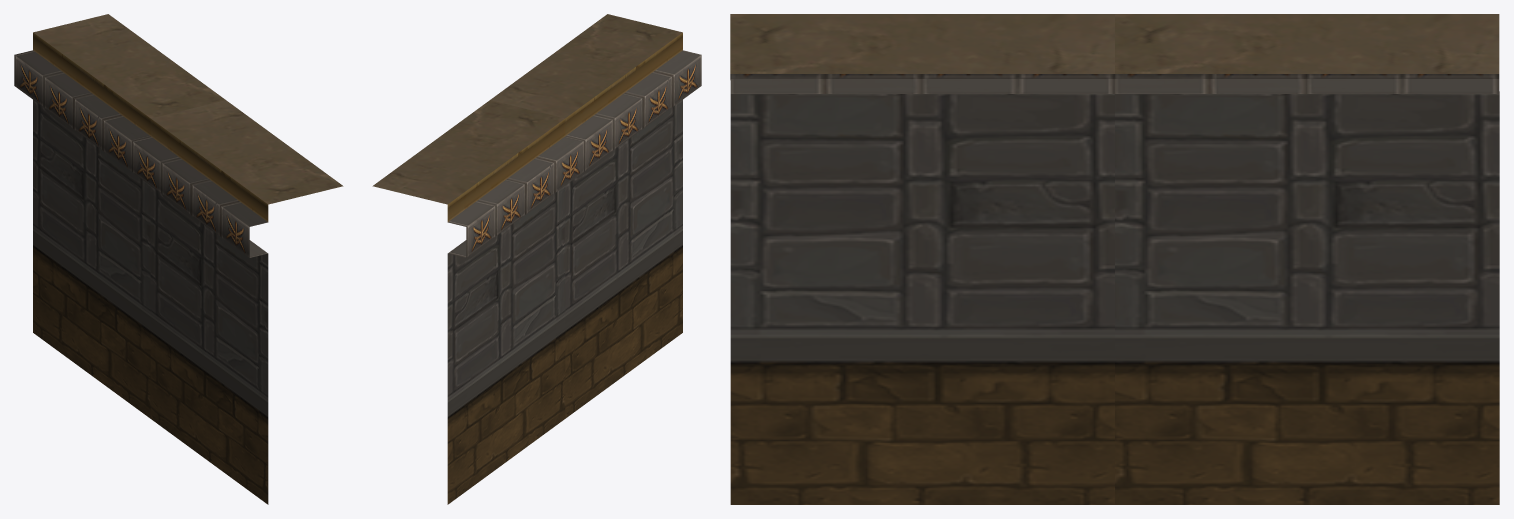
The model's file is Battle06_Wall_017.FBX.
3 renders of one model, left to right at view 1: azimuth 30°, elevation 25°; view 2: azimuth 150°, elevation 25°; view 3: azimuth 270°, elevation 25°, orthographic. The views are drawn at different scales.
Visible parts, largest first — view 1: Battle06_Wall_017; view 2: Battle06_Wall_017; view 3: Battle06_Wall_017.
Part boxes in pixels (x1,y1,x2,y2): Battle06_Wall_017: (14,14,343,504); Battle06_Wall_017: (372,14,701,504); Battle06_Wall_017: (730,14,1499,504).
Size of the model in its own units: 3.03 by 9.26 by 13.14.
